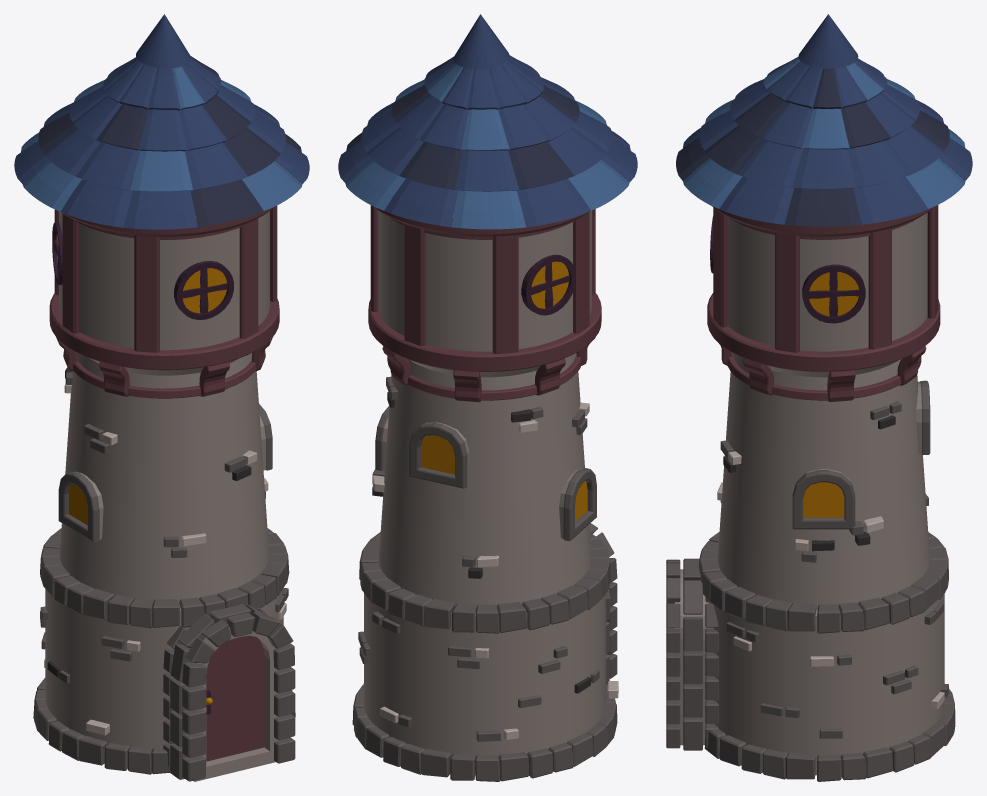
Rendered from torre-pedra.fbx.
3 renders of one model, left to right at view 1: azimuth 30°, elevation 25°; view 2: azimuth 150°, elevation 25°; view 3: azimuth 270°, elevation 25°, orthographic.
Parts seen in each view (by area): view 1: Cylinder, Cylinder.005; view 2: Cylinder; view 3: Cylinder.
Part boxes in pixels (box(x1,y1,x2,y2)): Cylinder: box(14, 14, 309, 781); Cylinder.005: box(206, 636, 264, 761); Cylinder: box(338, 14, 637, 781); Cylinder: box(666, 14, 972, 781).
Bounding box in the file's own units: 492 × 1307 × 508.
